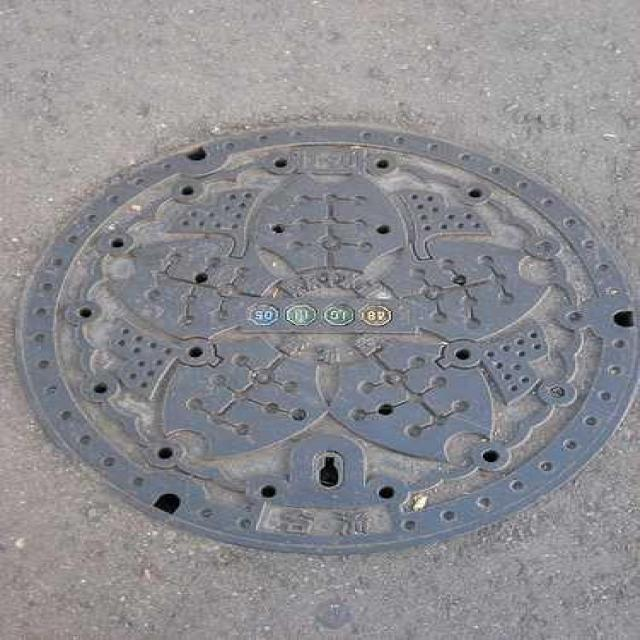manhole: (18, 125, 637, 552)
